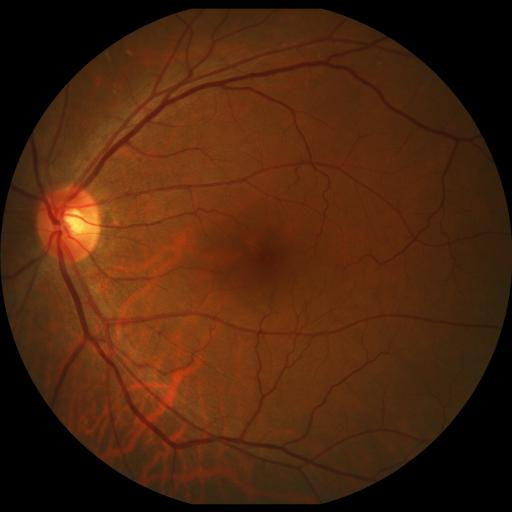Optic Cup: (57, 208, 85, 238)
Optic Disc: (36, 184, 100, 262)
